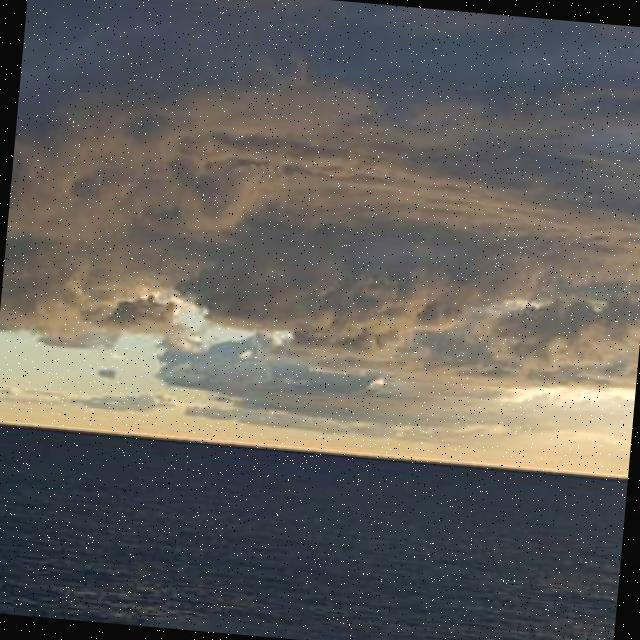Ns: (1, 1, 640, 457)
